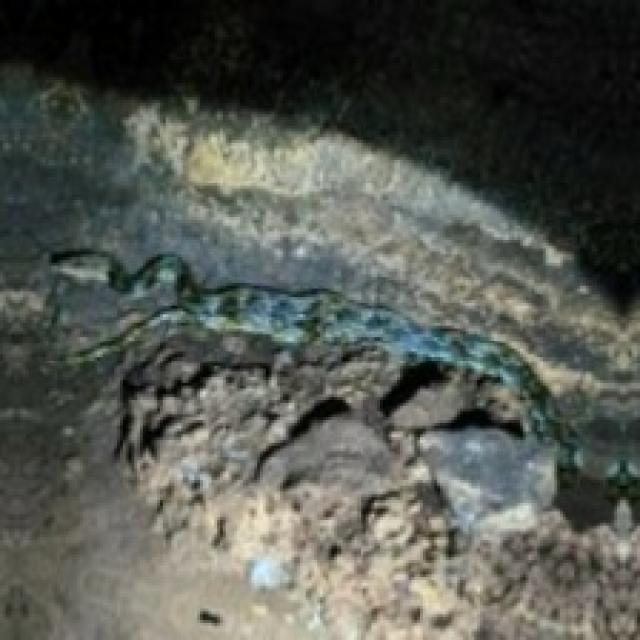reticulated python: (51, 252, 640, 499)
